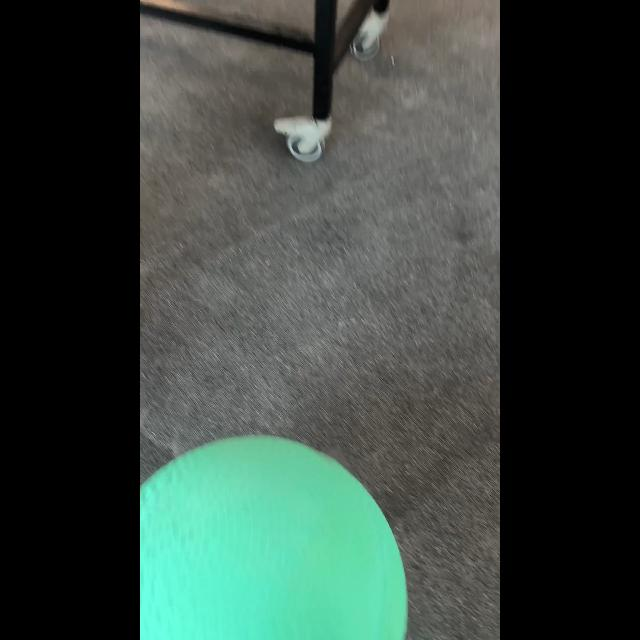ALGAE: (140, 434, 408, 638)
